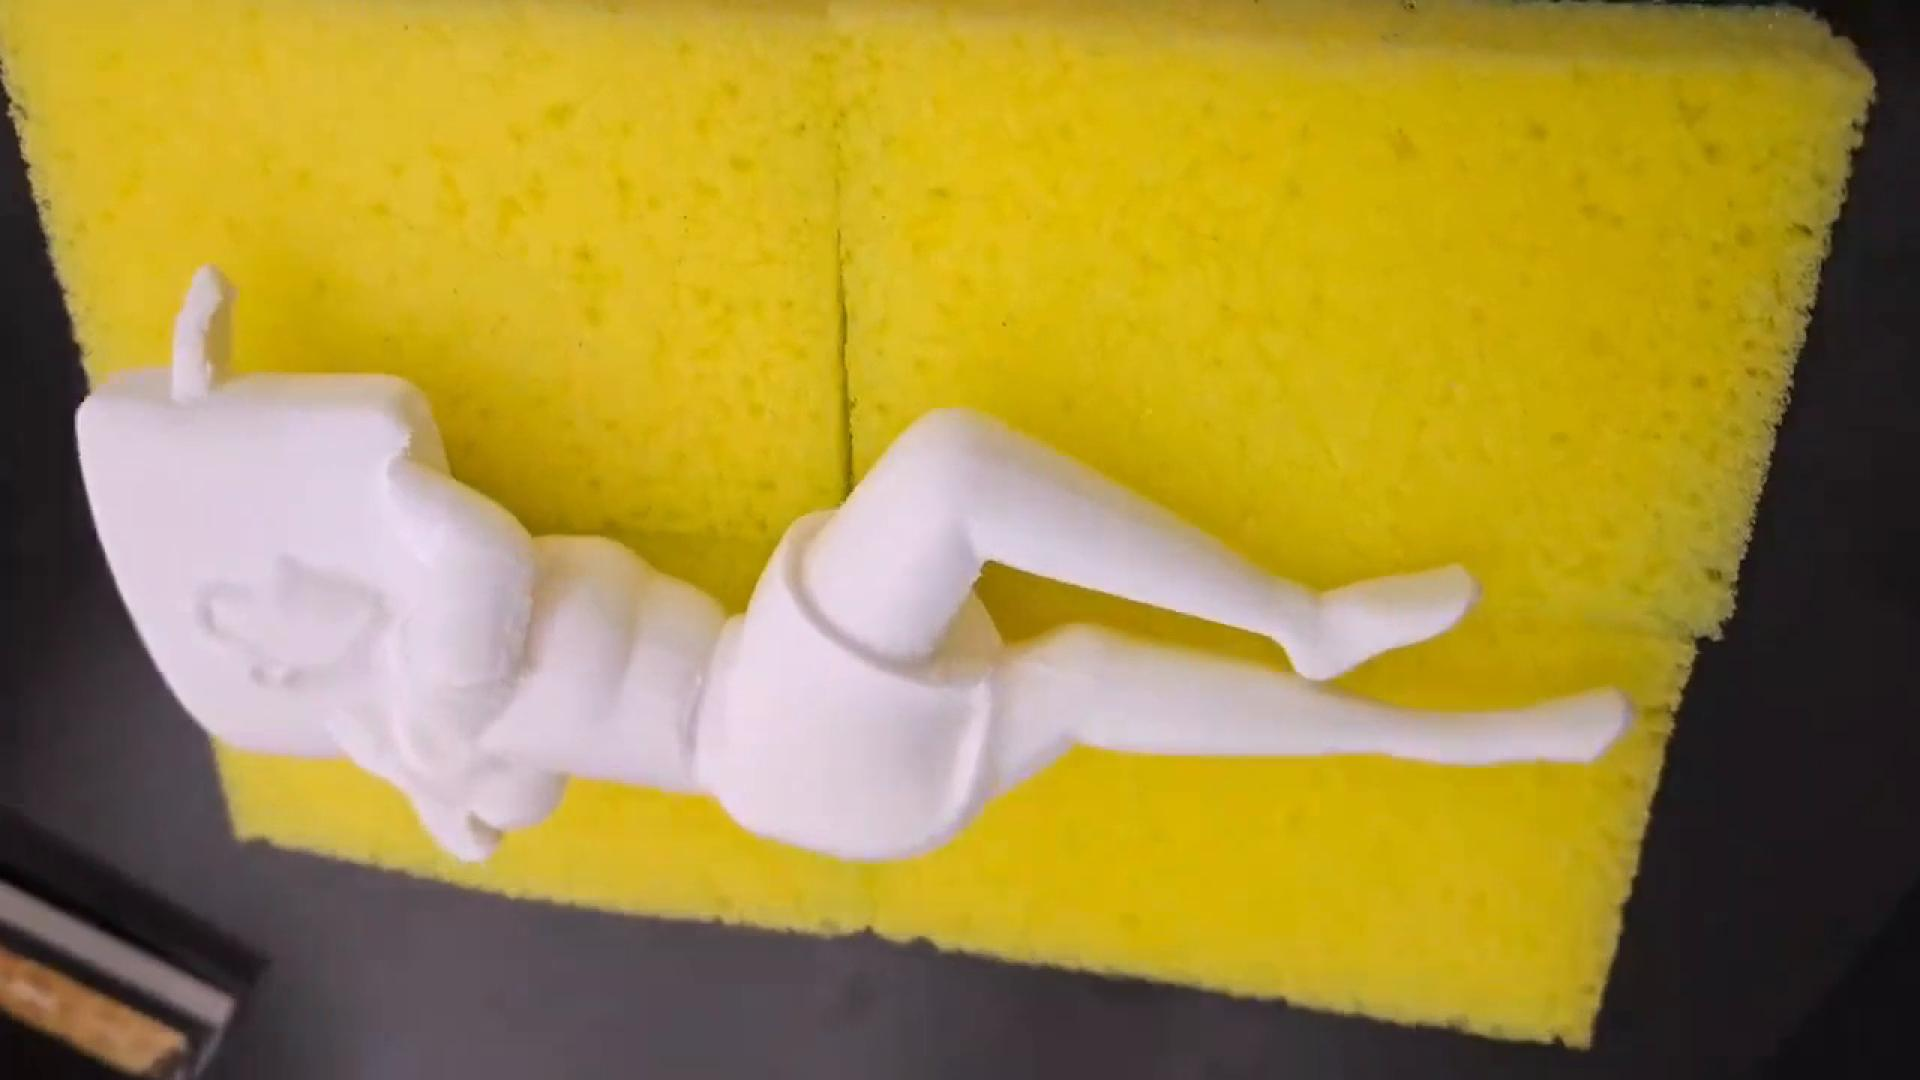Good-style: (34, 253, 1698, 952)
